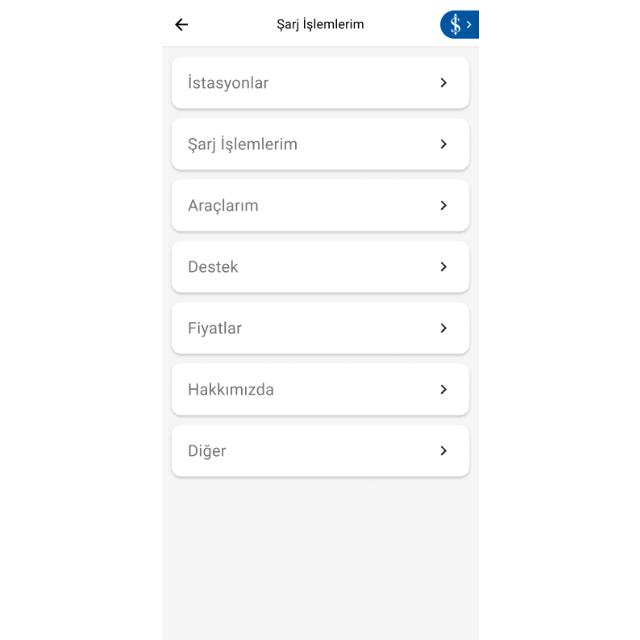QLabel: (183, 134, 295, 154), (182, 72, 270, 92), (274, 16, 364, 32), (184, 381, 274, 397), (183, 198, 259, 214), (184, 321, 243, 337), (184, 442, 226, 462), (186, 260, 240, 274)
VAppBar: (162, 1, 478, 49)
VExpansionPanel: (170, 424, 470, 480), (171, 56, 469, 110), (172, 240, 470, 294), (170, 120, 470, 172), (169, 180, 469, 232), (172, 366, 470, 416), (173, 303, 471, 353)
VIcon: (172, 16, 188, 34)
VImg: (440, 11, 478, 39)
